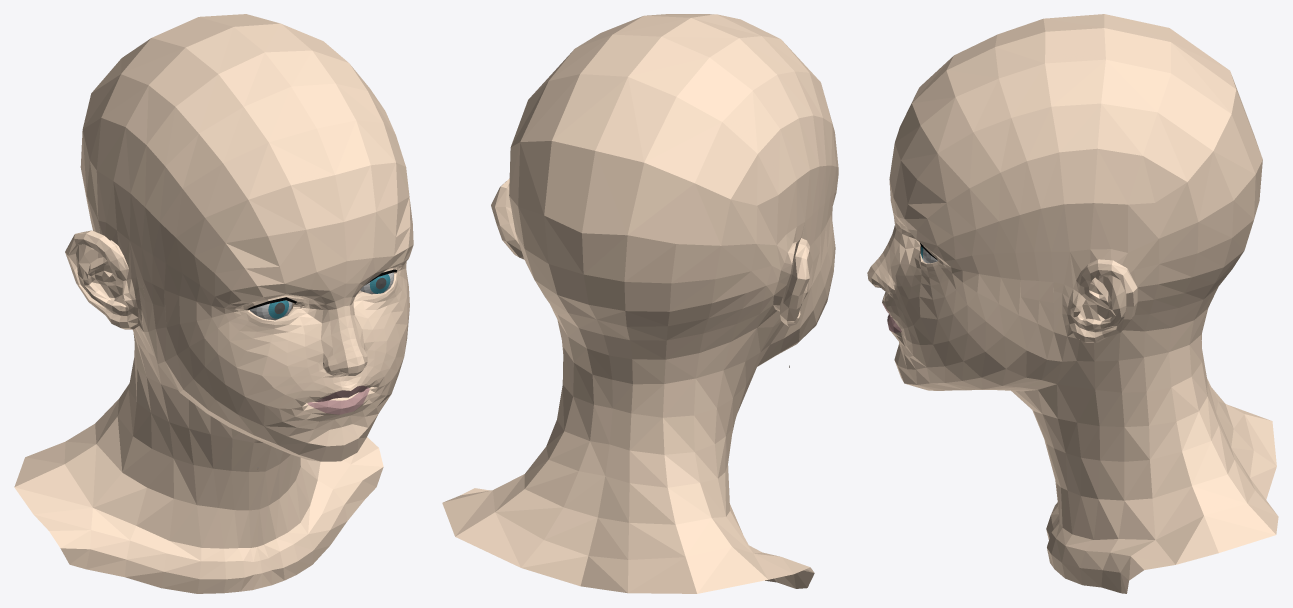
Rendered from doll4.obj.
3 views of the same model, side by side, from view 1: azimuth 30°, elevation 25°; view 2: azimuth 150°, elevation 25°; view 3: azimuth 270°, elevation 25° (orthographic). The views are drawn at different scales.
Parts seen in each view (by area): view 1: Mesh2 head03__N_default head03__N skpC051_1 Model, Mesh3 Sphere03N_default Sphere03N skpC051_1 Model; view 2: Mesh2 head03__N_default head03__N skpC051_1 Model; view 3: Mesh2 head03__N_default head03__N skpC051_1 Model.
Part boxes in pixels (x1,y1,x2,y2): Mesh2 head03__N_default head03__N skpC051_1 Model: (14, 14, 413, 593); Mesh3 Sphere03N_default Sphere03N skpC051_1 Model: (250, 300, 292, 320); Mesh2 head03__N_default head03__N skpC051_1 Model: (442, 14, 838, 593); Mesh2 head03__N_default head03__N skpC051_1 Model: (867, 14, 1278, 593).
Size of the model in its own units: 8678 by 13478 by 9552.
